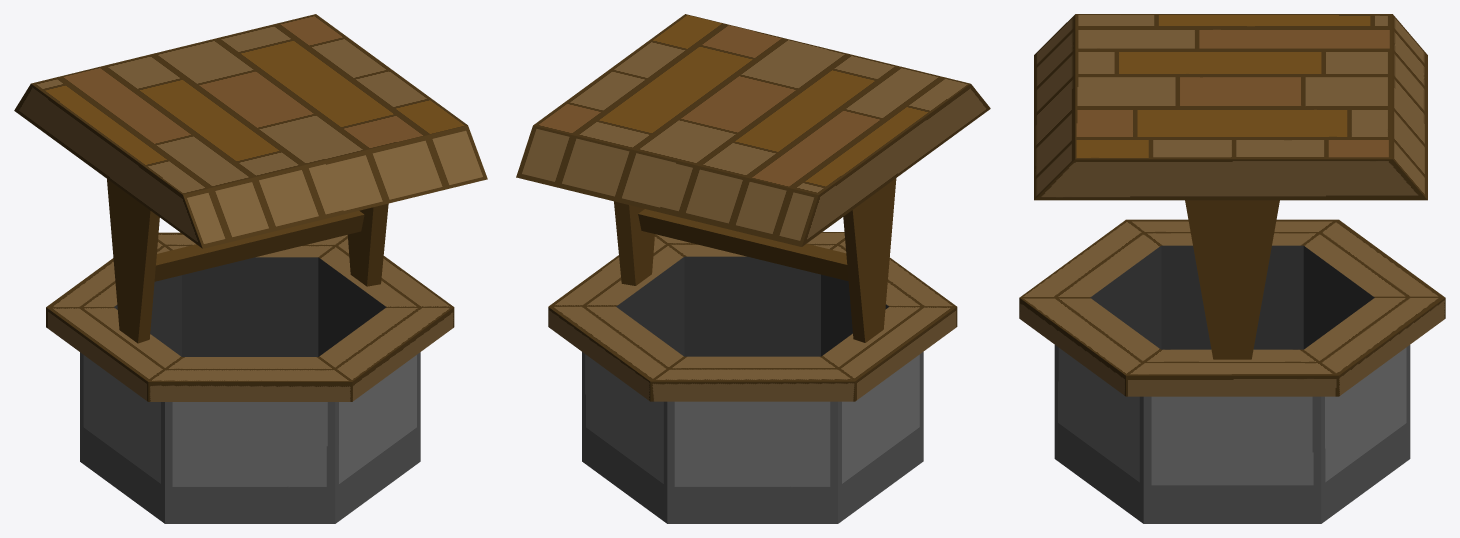
The model's file is well.FBX.
3 views of the same model, side by side, from view 1: azimuth 30°, elevation 25°; view 2: azimuth 150°, elevation 25°; view 3: azimuth 270°, elevation 25° (orthographic). The views are drawn at different scales.
Visible parts, largest first — view 1: well; view 2: well; view 3: well.
Boxes of the visible parts, x1=… form: well: x1=14, y1=14, x2=487, y2=523; well: x1=516, y1=14, x2=990, y2=523; well: x1=1019, y1=14, x2=1445, y2=523.
Bounding box in the file's own units: 41.1 × 47.45 × 45.75.
Materials: 1 (1 with a texture image).
